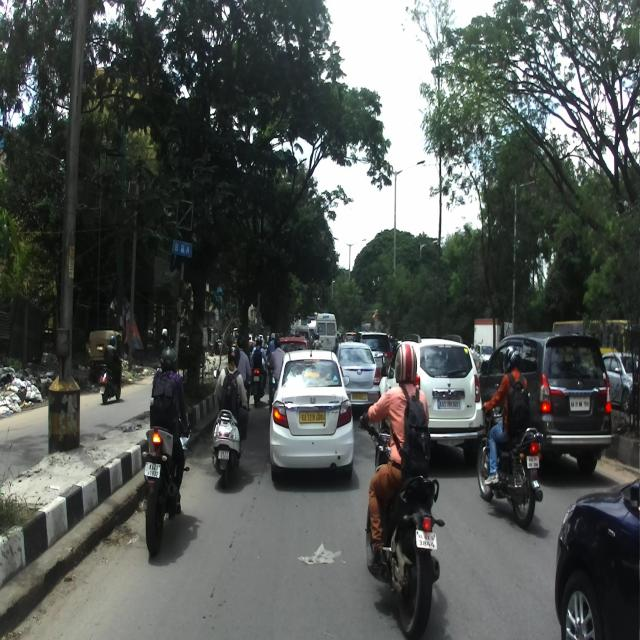Car_Honda: (269, 343, 354, 488)
Car_Maruti-Suzuki: (552, 474, 640, 639)
Car_Renault: (377, 331, 486, 468)
Car_Toyota: (478, 329, 614, 478), (330, 342, 381, 415)
motorcycle_Hero: (476, 382, 544, 531)
motorcycle_Yamaha: (359, 414, 446, 637), (141, 393, 194, 559)
scooter: (209, 368, 250, 488)
